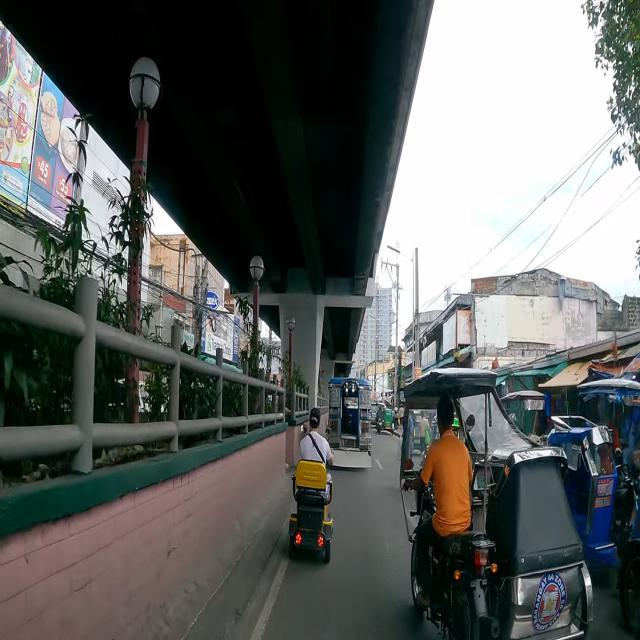jeepney: (326, 377, 372, 469)
motorcycle: (392, 406, 400, 430)
tricycle: (399, 368, 593, 639), (548, 374, 640, 629), (376, 407, 394, 433)
